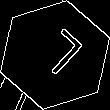L_SW: (26, 26, 84, 84)
